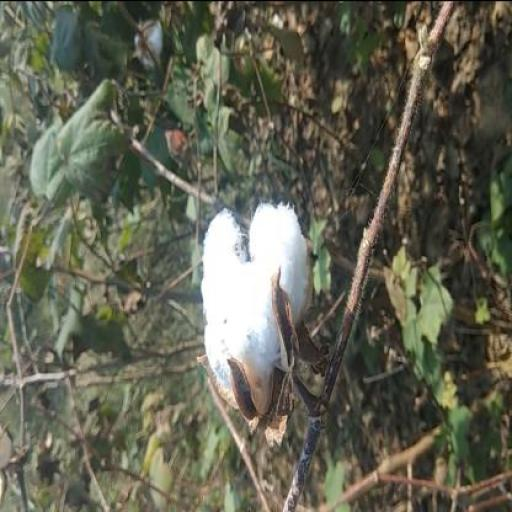cotton_ready: (186, 167, 338, 462)
